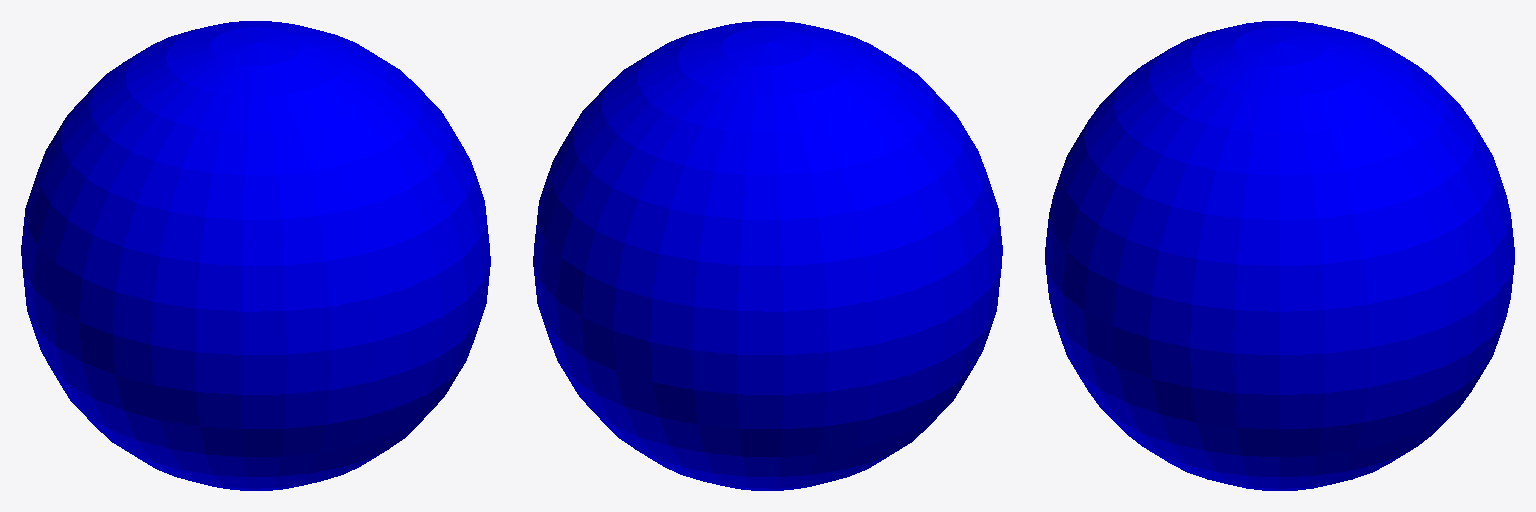
Rendered from exp_full_task.obj.
3 views of the same model, side by side, from view 1: azimuth 30°, elevation 25°; view 2: azimuth 150°, elevation 25°; view 3: azimuth 270°, elevation 25° (orthographic).
Parts seen in each view (by area): view 1: Sphere_3; view 2: Sphere_3; view 3: Sphere_3.
Part boxes in pixels (bbox=[...]): Sphere_3: bbox=[21, 21, 490, 490]; Sphere_3: bbox=[533, 21, 1002, 490]; Sphere_3: bbox=[1045, 21, 1514, 490].
Size of the model in its own units: 2 by 2 by 2.